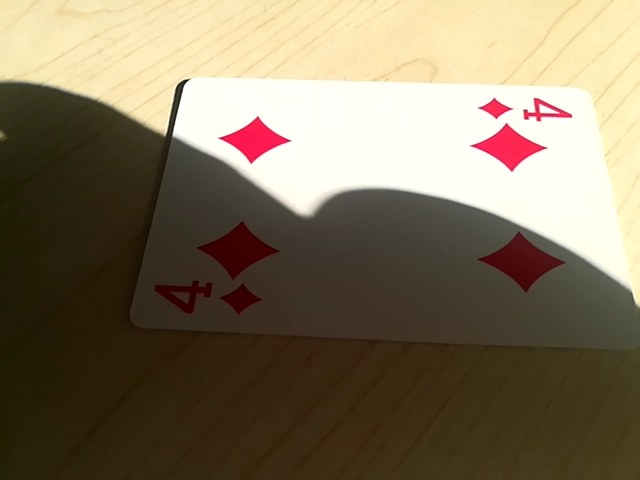fk 4: (143, 268, 265, 329), (475, 92, 576, 128)
